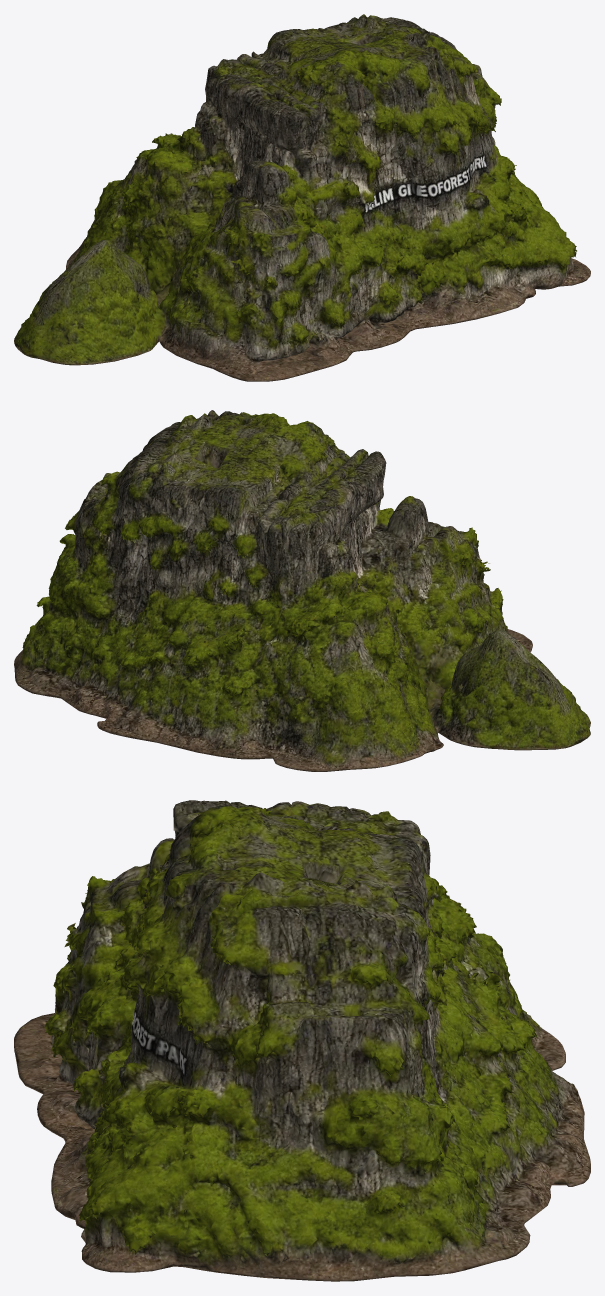
Rendered from kilim_geoforest.glb.
3 views of the same model, one above another, from view 1: azimuth 30°, elevation 25°; view 2: azimuth 150°, elevation 25°; view 3: azimuth 270°, elevation 25° (orthographic). The views are drawn at different scales.
Bounding box in the file's own units: 1.9 × 0.8097 × 1.3.
1 material, 1 textured.
